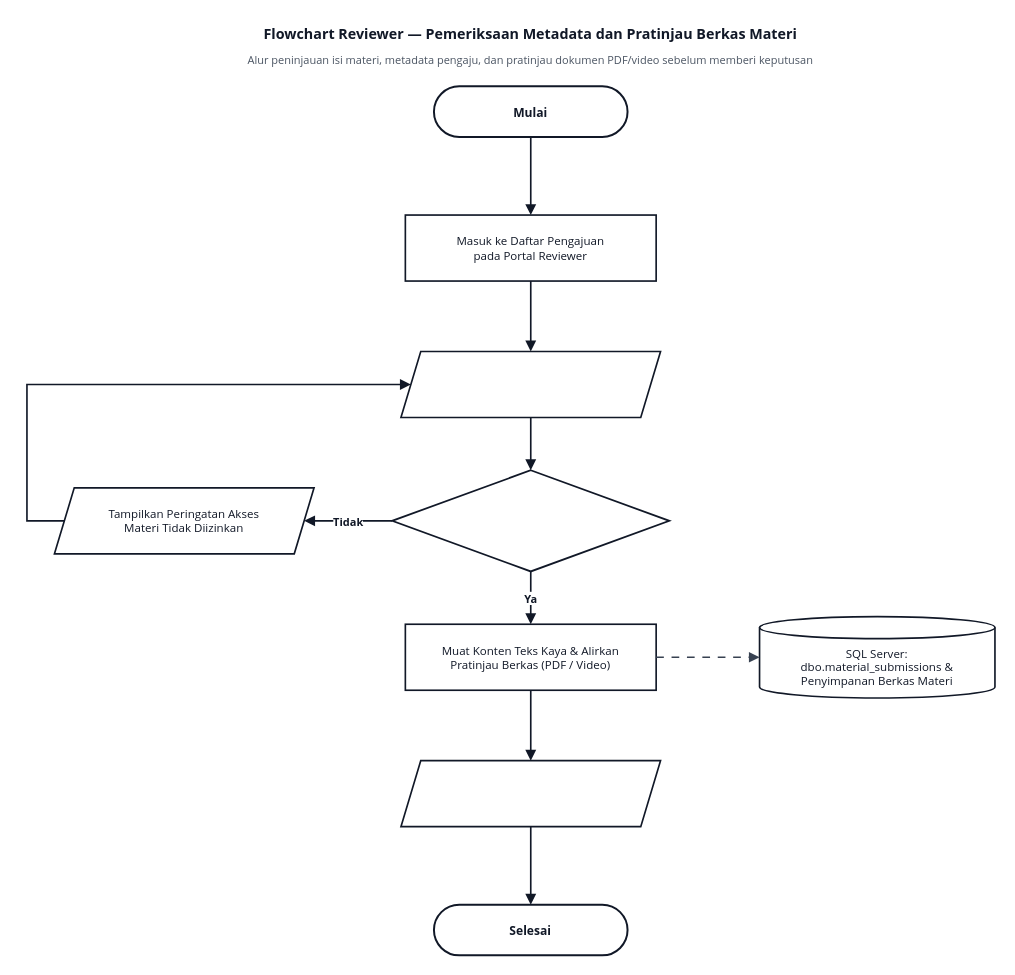
Some shapes in this 1015 by 975 pixel diagram are drawn without their labels. The shapes that lost their labels are listed below. From the top down, each one's centre as x and y in pixels, then its label:
At point 530,384: "Pilih Item Materi Berstatus Sedang Direview".
At point 530,520: "Sesi Reviewer Berhak Mengakses Materi?".
At point 530,793: "Tampilkan Panel Pratinjau Materi & Formulir Keputusan Review".
